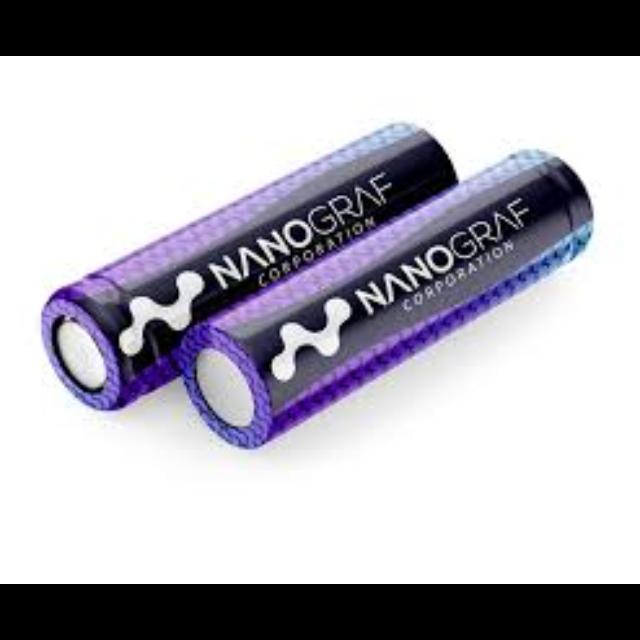Battery: (181, 152, 596, 449), (41, 126, 459, 410)
